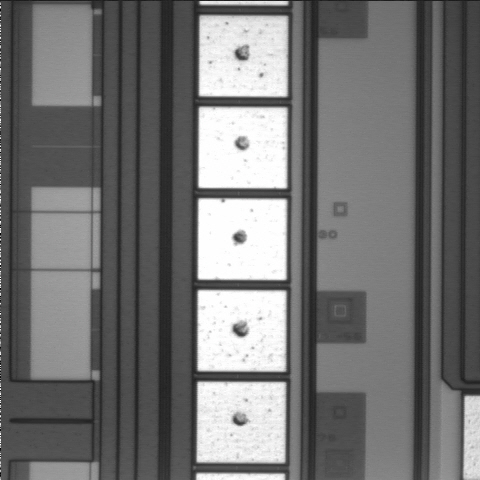pad: (198, 198, 287, 280), (198, 290, 286, 372), (199, 16, 288, 97), (198, 107, 287, 188), (197, 382, 286, 463)
